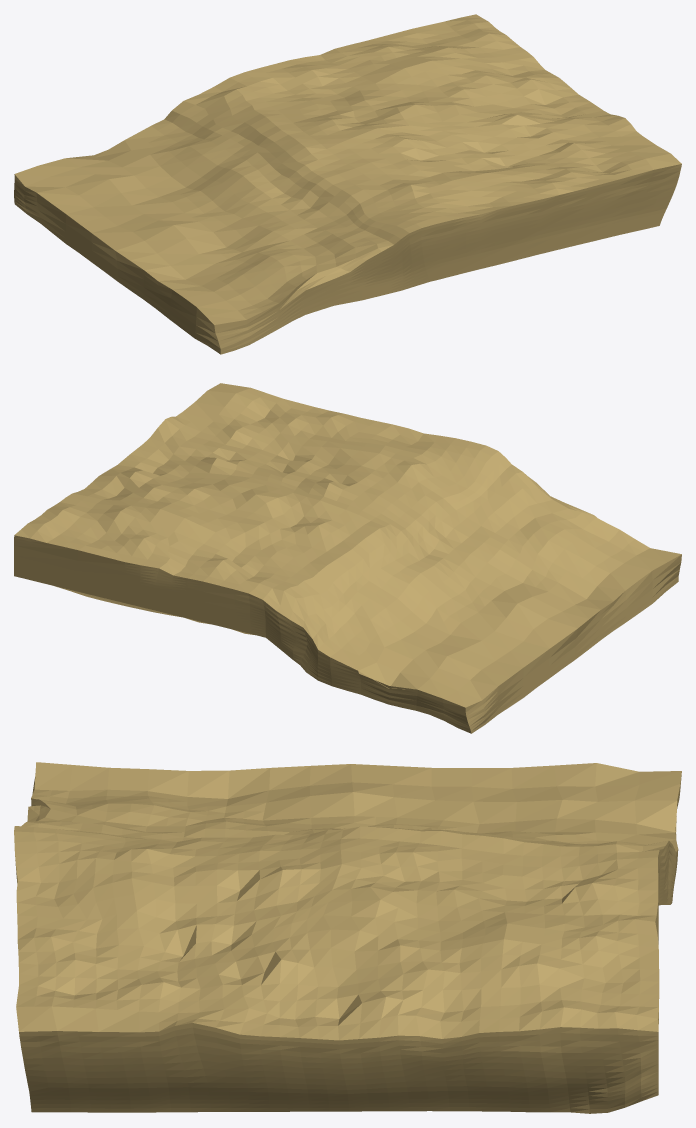
The model's file is Updated_Sand.fbx.
The picture shows the model from 3 angles, top to bottom: view 1: azimuth 30°, elevation 25°; view 2: azimuth 150°, elevation 25°; view 3: azimuth 270°, elevation 25°; orthographic projection. The views are drawn at different scales.
Visible parts, largest first — view 1: Cube.001; view 2: Cube.001; view 3: Cube.001.
Boxes of the visible parts, x1=… form: Cube.001: x1=14, y1=14, x2=681, y2=354; Cube.001: x1=14, y1=383, x2=681, y2=733; Cube.001: x1=14, y1=762, x2=681, y2=1113.
Bounding box in the file's own units: 384 × 77.2 × 307.
